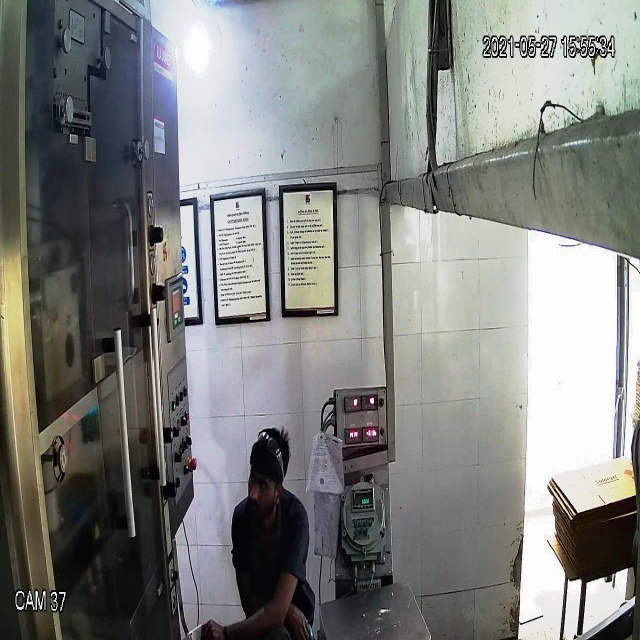Sin_gafas: (243, 463, 283, 495)
